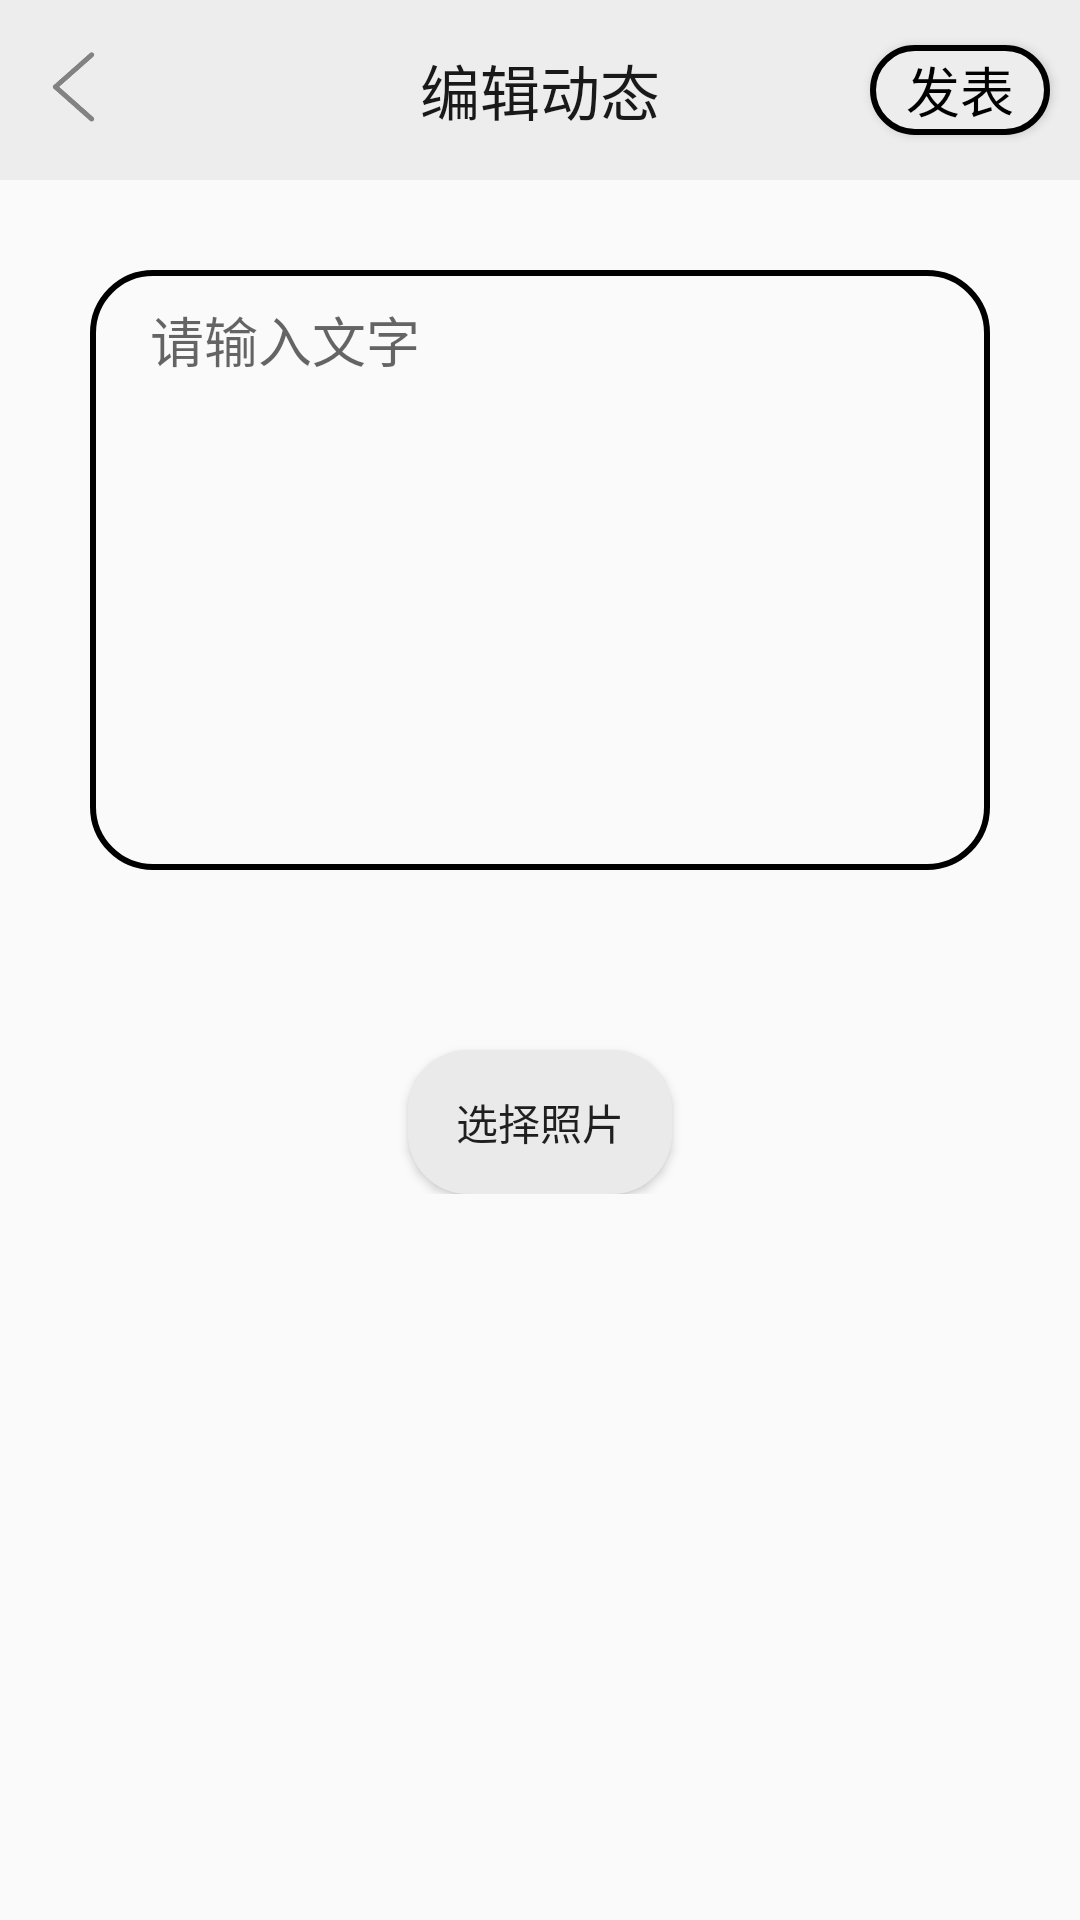

Icon bounding boxes for this 1080px x 1920px phone screenshot, format (x1, y1, x2, y2):
back: (53, 52, 94, 122)
